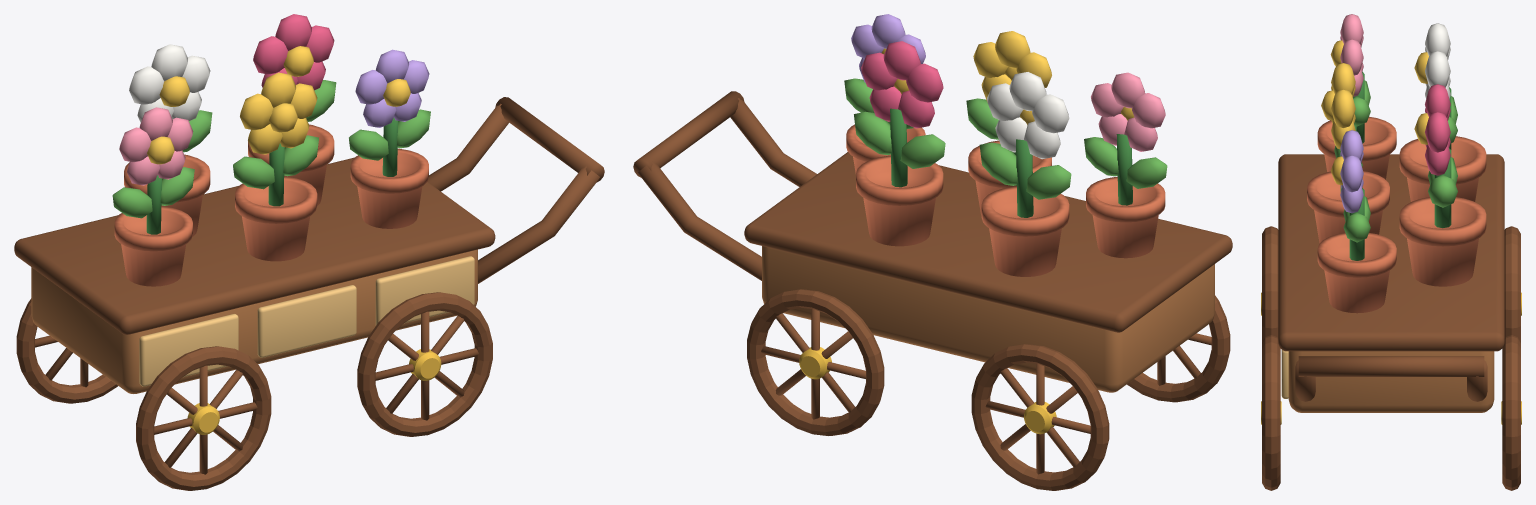
The model's file is pot_cart.fbx.
The picture shows the model from 3 angles, left to right: view 1: azimuth 30°, elevation 25°; view 2: azimuth 150°, elevation 25°; view 3: azimuth 270°, elevation 25°; orthographic projection.
Visible parts, largest first — view 1: pot_cart_WoodDark, pot_cart_Terracotta, pot_cart_CrustLight, pot_cart_Wood, pot_cart_Yellow, pot_cart_Green, pot_cart_White, pot_cart_Pink, pot_cart_Lilac, pot_cart_PinkDark, pot_cart_GreenDark, pot_cart_Gold; view 2: pot_cart_WoodDark, pot_cart_Wood, pot_cart_Terracotta, pot_cart_Green, pot_cart_PinkDark, pot_cart_White, pot_cart_Pink, pot_cart_Yellow, pot_cart_GreenDark, pot_cart_Lilac, pot_cart_Gold; view 3: pot_cart_WoodDark, pot_cart_Terracotta, pot_cart_Wood, pot_cart_Yellow, pot_cart_Green, pot_cart_PinkDark, pot_cart_Lilac, pot_cart_White, pot_cart_GreenDark, pot_cart_Pink, pot_cart_CrustLight.
Boxes of the visible parts, x1,y1,x2,y2 form: pot_cart_WoodDark: (14, 97, 604, 490); pot_cart_Terracotta: (114, 124, 428, 286); pot_cart_CrustLight: (139, 256, 474, 386); pot_cart_Wood: (31, 249, 477, 393); pot_cart_Yellow: (147, 46, 410, 164); pot_cart_Green: (112, 80, 430, 218); pot_cart_White: (129, 44, 210, 122); pot_cart_Pink: (119, 107, 193, 185); pot_cart_Lilac: (355, 49, 429, 127); pot_cart_PinkDark: (253, 14, 334, 90); pot_cart_GreenDark: (146, 117, 398, 234); pot_cart_Gold: (187, 349, 441, 434); pot_cart_WoodDark: (633, 91, 1232, 490); pot_cart_Wood: (762, 246, 1214, 392); pot_cart_Terracotta: (846, 124, 1165, 276); pot_cart_Green: (844, 78, 1167, 199); pot_cart_PinkDark: (861, 41, 943, 128); pot_cart_White: (987, 72, 1069, 159); pot_cart_Pink: (1091, 72, 1165, 151); pot_cart_Yellow: (881, 31, 1134, 124); pot_cart_GreenDark: (890, 108, 1132, 217); pot_cart_Lilac: (851, 14, 925, 82); pot_cart_Gold: (799, 347, 1056, 434); pot_cart_WoodDark: (1262, 154, 1520, 490); pot_cart_Terracotta: (1307, 116, 1486, 313); pot_cart_Wood: (1288, 351, 1494, 412); pot_cart_Yellow: (1321, 40, 1428, 185); pot_cart_Green: (1334, 80, 1457, 242); pot_cart_PinkDark: (1425, 84, 1450, 175); pot_cart_Lilac: (1340, 130, 1363, 213); pot_cart_White: (1425, 23, 1450, 98); pot_cart_GreenDark: (1340, 71, 1451, 260); pot_cart_Pink: (1340, 14, 1363, 96); pot_cart_CrustLight: (1281, 349, 1288, 398).
Bounding box in the file's own units: 33.3 × 24.1 × 15.2.
